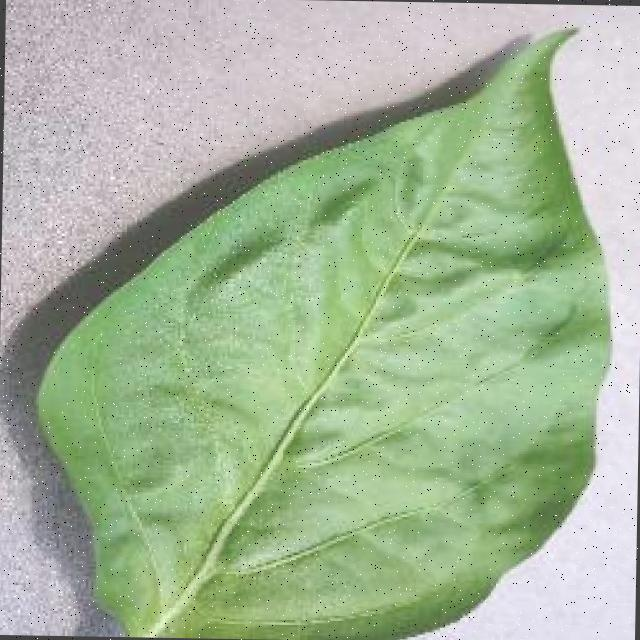Leaf: (243, 181, 640, 554), (118, 272, 183, 396)
